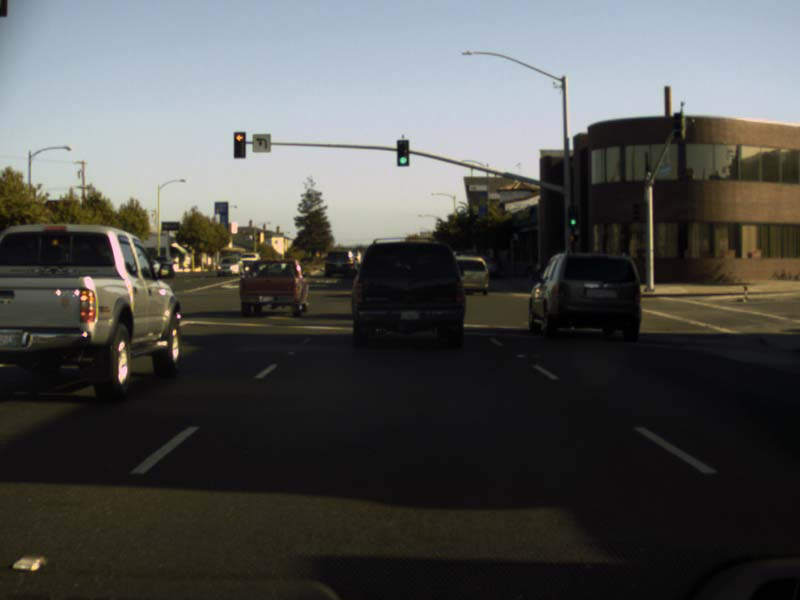Green: (397, 140, 408, 165), (569, 208, 577, 226)
Red: (234, 131, 244, 156)
